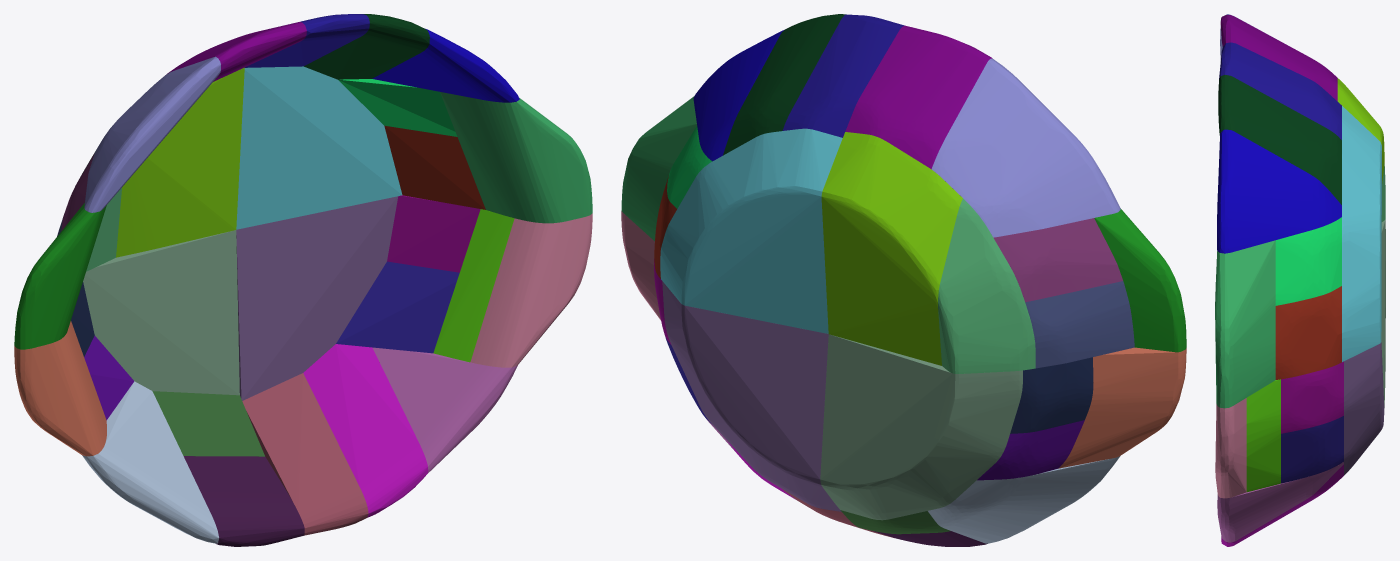
File: coacd_collision.obj
3 renders of one model, left to right at view 1: azimuth 30°, elevation 25°; view 2: azimuth 150°, elevation 25°; view 3: azimuth 270°, elevation 25°, orthographic. The views are drawn at different scales.
Parts seen in each view (by area): view 1: geometry_1, geometry_0, geometry_2, geometry_4, geometry_10, geometry_22, geometry_24, geometry_13, geometry_6, geometry_7, geometry_26, geometry_12 (+16 smaller); view 2: geometry_0, geometry_2, geometry_4, geometry_1, geometry_12, geometry_3, geometry_11, geometry_9, geometry_6, geometry_20, geometry_28, geometry_16 (+11 smaller); view 3: geometry_5, geometry_2, geometry_10, geometry_25, geometry_15, geometry_23, geometry_20, geometry_1, geometry_7, geometry_17, geometry_14, geometry_18 (+5 smaller).
Part boxes in pixels (x1,y1,x2,y2): geometry_1: (236, 196, 398, 400); geometry_0: (83, 230, 239, 395); geometry_2: (236, 66, 402, 229); geometry_4: (116, 67, 244, 257); geometry_10: (440, 92, 592, 223); geometry_22: (303, 344, 428, 517); geometry_24: (470, 213, 592, 367); geometry_13: (242, 373, 368, 535); geometry_6: (82, 381, 218, 543); geometry_7: (372, 347, 517, 472); geometry_26: (183, 456, 304, 546); geometry_12: (84, 56, 220, 212); geometry_0: (820, 334, 1022, 520); geometry_2: (660, 128, 842, 333); geometry_4: (821, 132, 962, 365); geometry_1: (662, 281, 841, 511); geometry_12: (931, 58, 1120, 237); geometry_3: (938, 198, 1035, 373); geometry_11: (845, 25, 992, 169); geometry_9: (1058, 347, 1186, 468); geometry_6: (928, 456, 1120, 543); geometry_20: (782, 14, 904, 137); geometry_28: (993, 218, 1122, 302); geometry_16: (1025, 281, 1134, 368); geometry_5: (1217, 129, 1341, 253); geometry_2: (1342, 106, 1381, 361); geometry_10: (1215, 240, 1275, 408); geometry_25: (1218, 75, 1341, 204); geometry_15: (1275, 286, 1341, 379); geometry_23: (1275, 217, 1341, 305); geometry_20: (1219, 42, 1341, 139); geometry_1: (1344, 342, 1384, 475); geometry_7: (1217, 462, 1343, 542); geometry_17: (1246, 379, 1280, 492); geometry_14: (1281, 361, 1343, 433); geometry_18: (1281, 416, 1343, 483).
Bounding box in the file's own units: 221 × 190 × 61.78.
